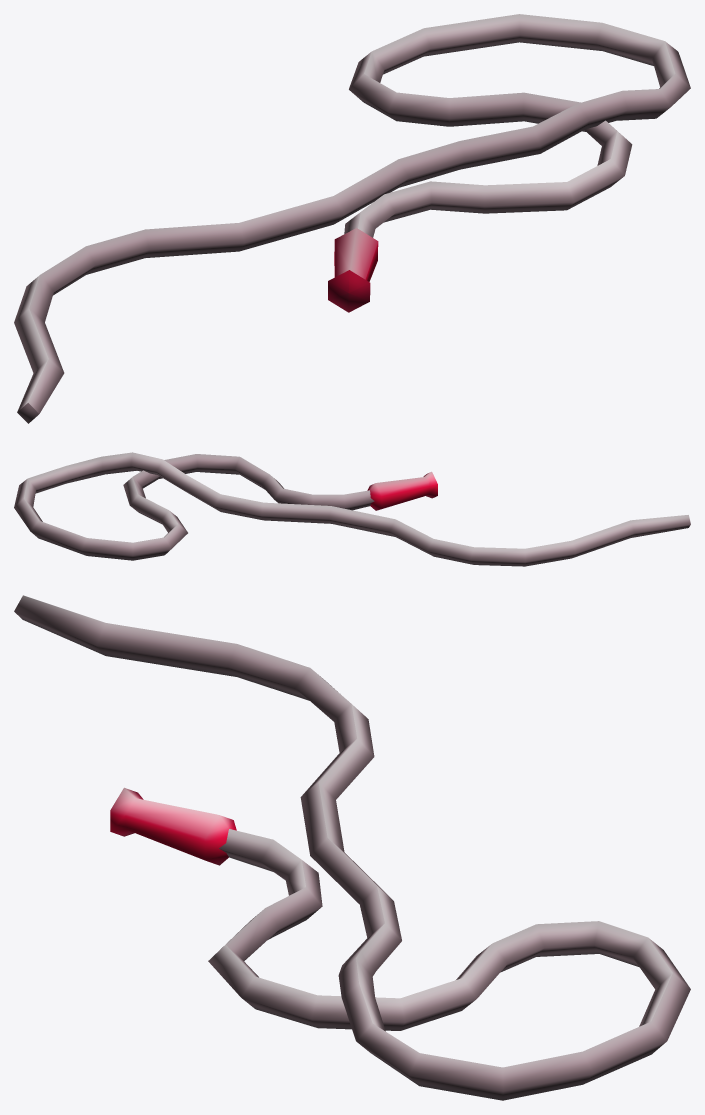
The model's file is Hose_2B.fbx.
3 renders of one model, top to bottom at view 1: azimuth 30°, elevation 25°; view 2: azimuth 150°, elevation 25°; view 3: azimuth 270°, elevation 25°, orthographic. The views are drawn at different scales.
Visible parts, largest first — view 1: Hose_2B; view 2: Hose_2B; view 3: Hose_2B.
Boxes of the visible parts, x1,y1,x2,y2 form: Hose_2B: [14, 14, 690, 423]; Hose_2B: [14, 452, 690, 566]; Hose_2B: [14, 595, 690, 1100].
Bounding box in the file's own units: 232 × 14.74 × 136.
